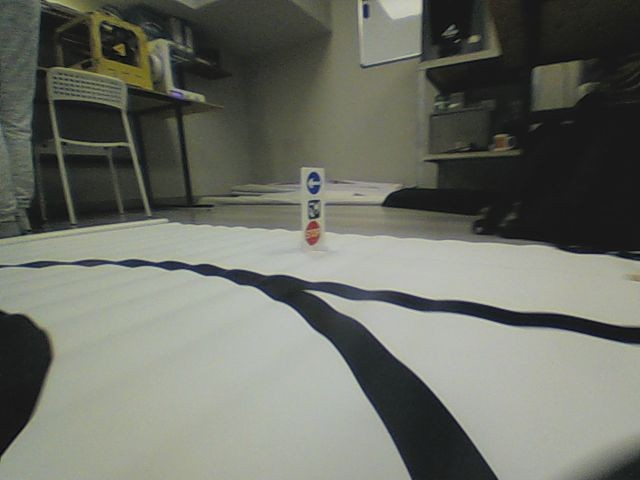Stop: (305, 220, 321, 246)
